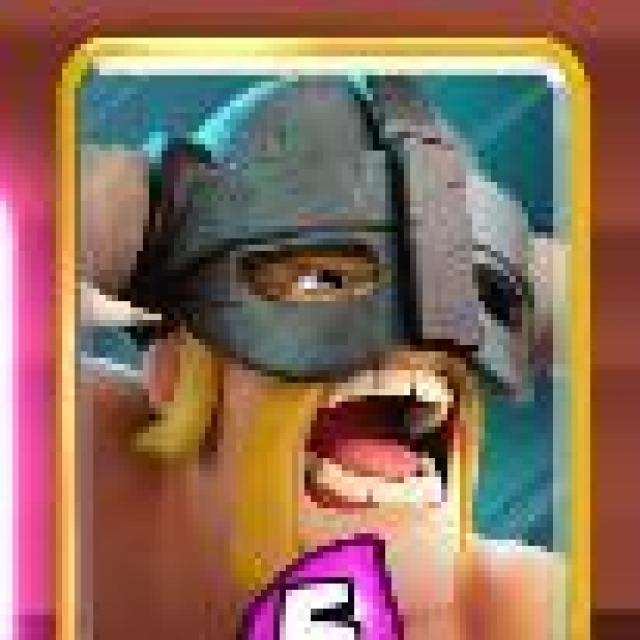Elite_Barbarians: (55, 44, 594, 640)
